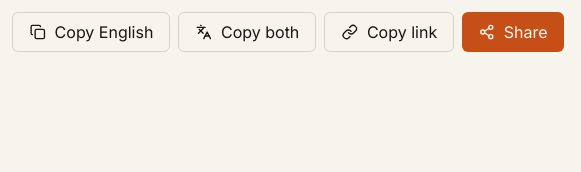
Scenario: quote sharing controls › copies the link when native sharing fails
Click the button "Share" at [513, 32], box [462,12,564,52]
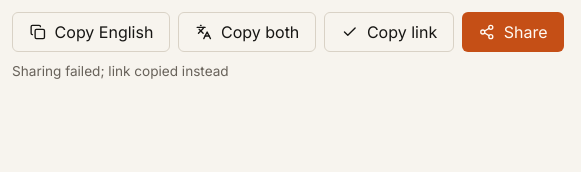
Expected: the message reads "Sharing failed; link copied instead", [12,63,229,79]
